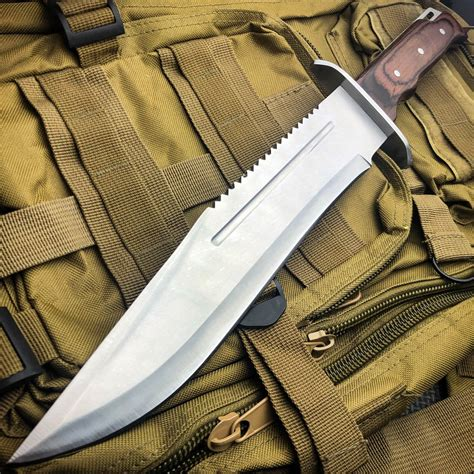knife: (10, 8, 464, 465)
